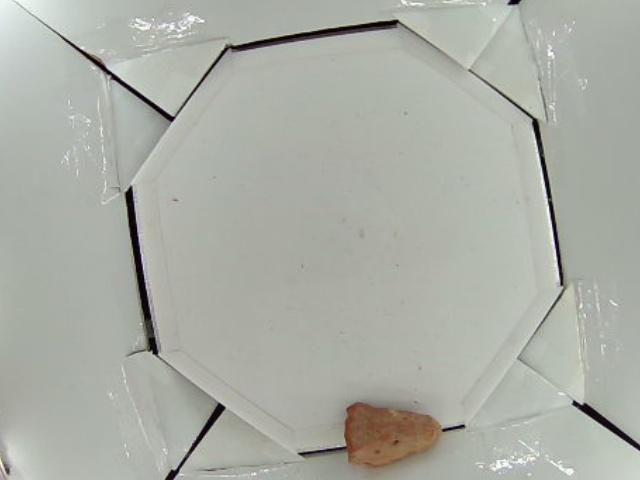Brisk: (344, 403, 441, 465)
